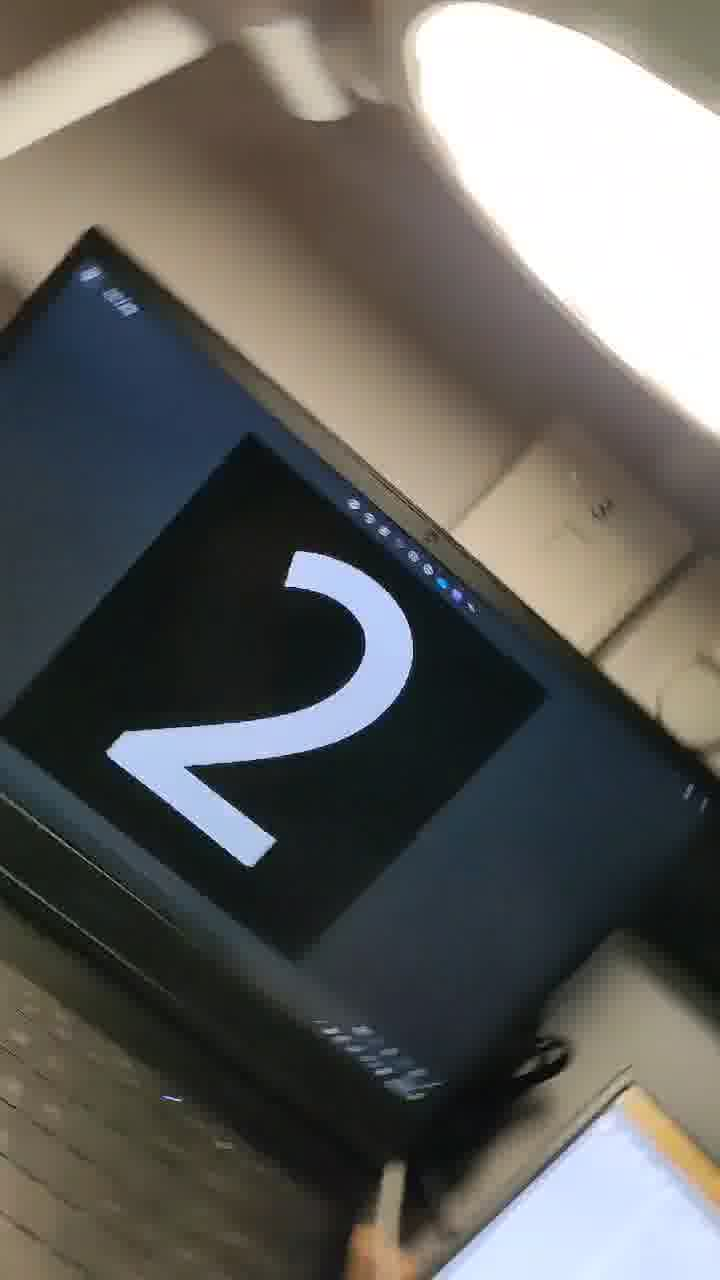two: (68, 481, 437, 918)
